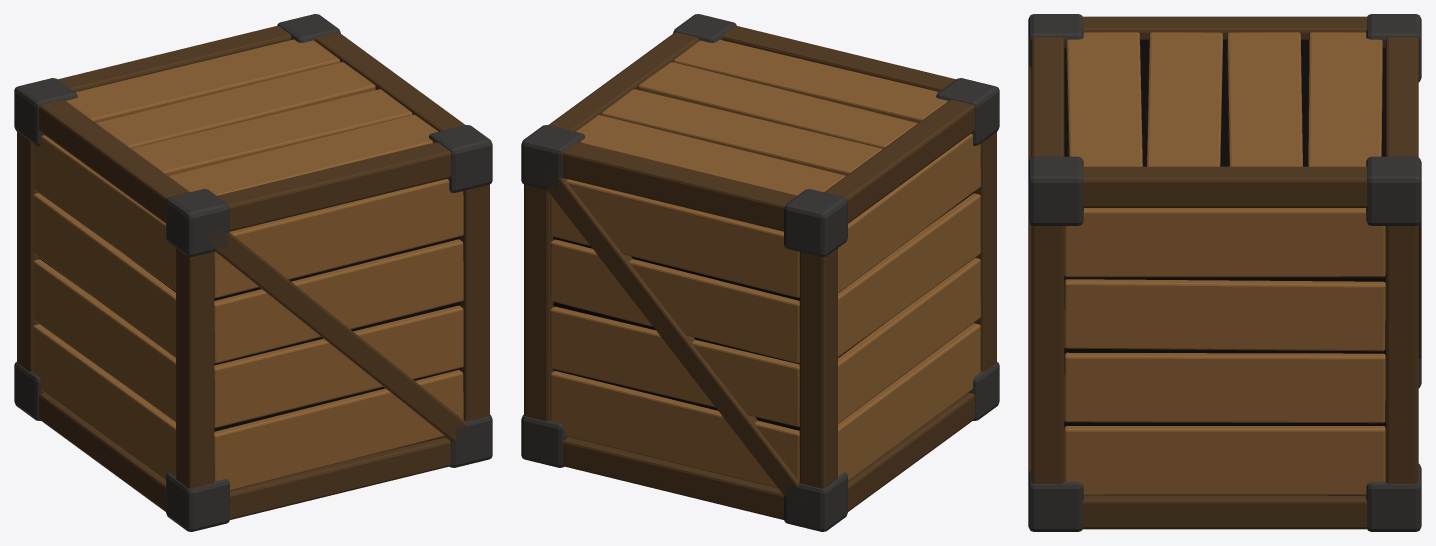
The model's file is crate.glb.
3 renders of one model, left to right at view 1: azimuth 30°, elevation 25°; view 2: azimuth 150°, elevation 25°; view 3: azimuth 270°, elevation 25°, orthographic. The views are drawn at different scales.
Visible parts, largest first — view 1: crate; view 2: crate; view 3: crate.
Boxes of the visible parts, x1=… form: crate: x1=14, y1=14, x2=492, y2=531; crate: x1=521, y1=14, x2=999, y2=531; crate: x1=1028, y1=14, x2=1421, y2=531.
Size of the model in its own units: 0.71 by 0.71 by 0.71.
